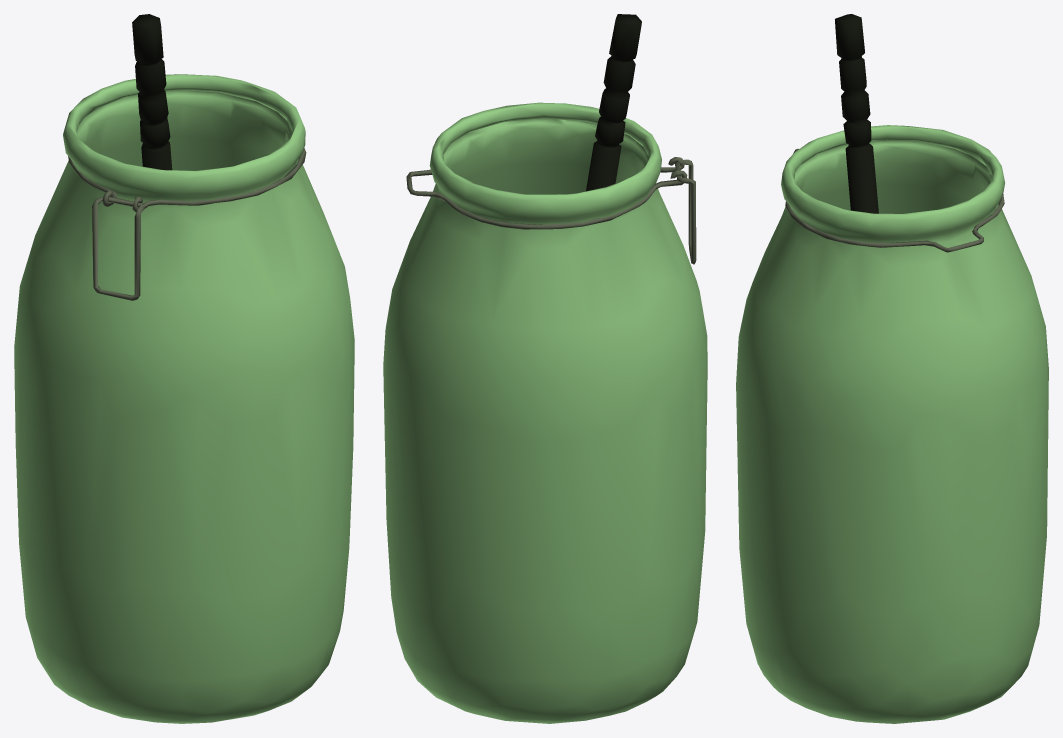
File: HoneyStick_LOD0 .fbx
3 renders of one model, left to right at view 1: azimuth 30°, elevation 25°; view 2: azimuth 150°, elevation 25°; view 3: azimuth 270°, elevation 25°, orthographic. The views are drawn at different scales.
Visible parts, largest first — view 1: HoneyStick_; view 2: HoneyStick_; view 3: HoneyStick_.
Boxes of the visible parts, x1,y1,x2,y2 form: HoneyStick_: [14, 14, 354, 723]; HoneyStick_: [383, 14, 707, 723]; HoneyStick_: [736, 14, 1048, 723].
Size of the model in its own units: 19.98 by 44.28 by 19.92.
